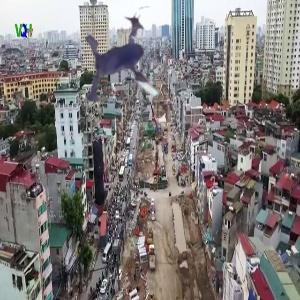drone: (56, 2, 208, 154)
